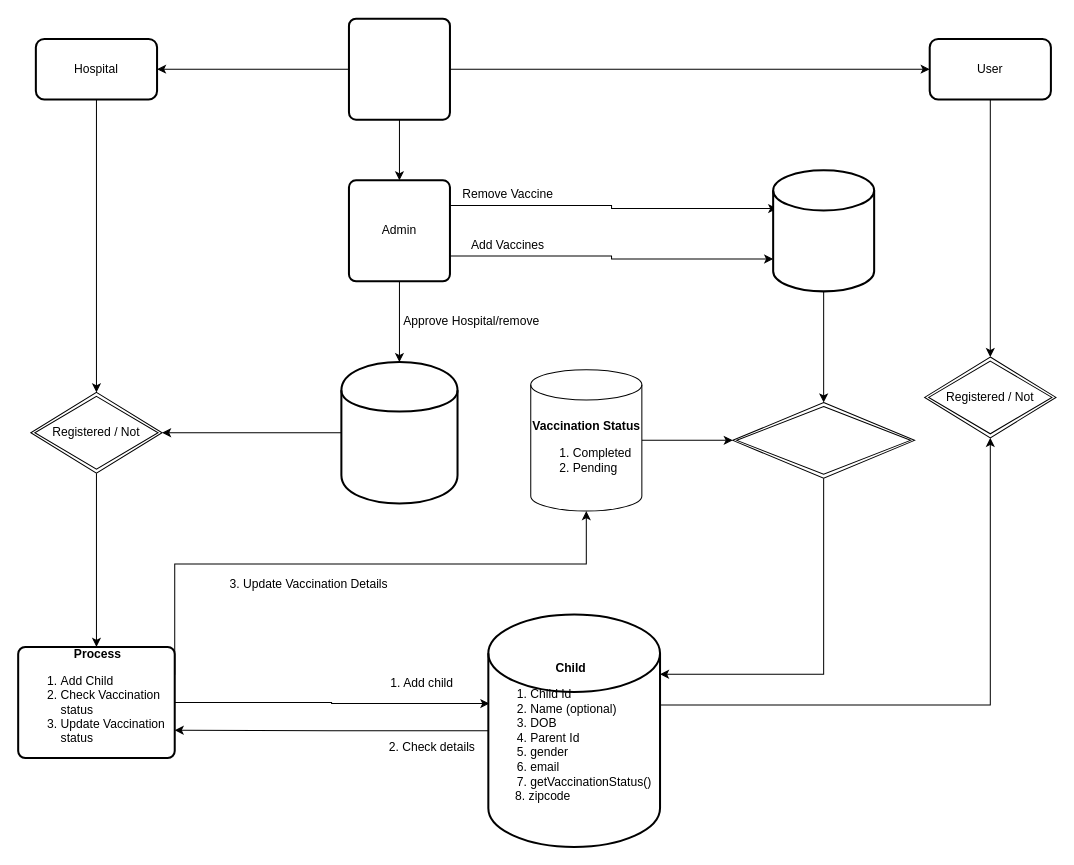
Some shapes in this 1074 by 865 pixel diagram are drawn without their labels. Each missing label, with the box of its shape:
Hospital Name Location Doctor: (340, 361, 458, 504)
Login/Register: (347, 17, 450, 120)
Pending/Completed Vaccinations: (732, 401, 915, 478)
Vaccines 1. Name 2.Courses: (772, 169, 875, 292)
